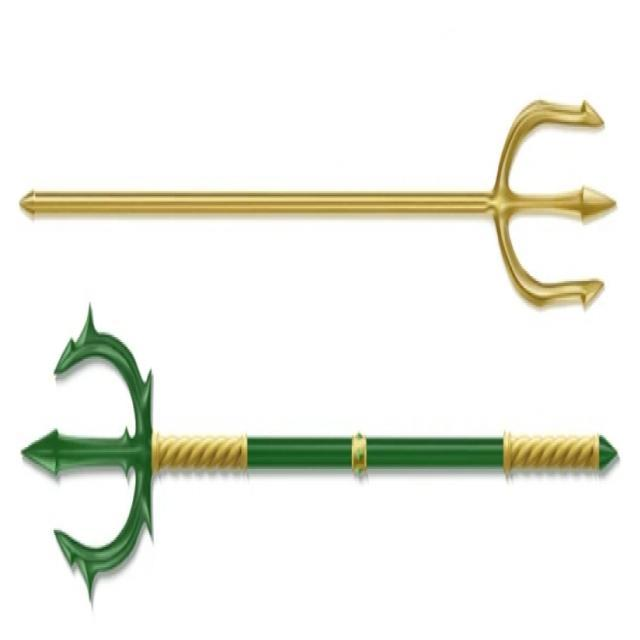spear: (18, 300, 624, 602), (14, 90, 620, 314)
